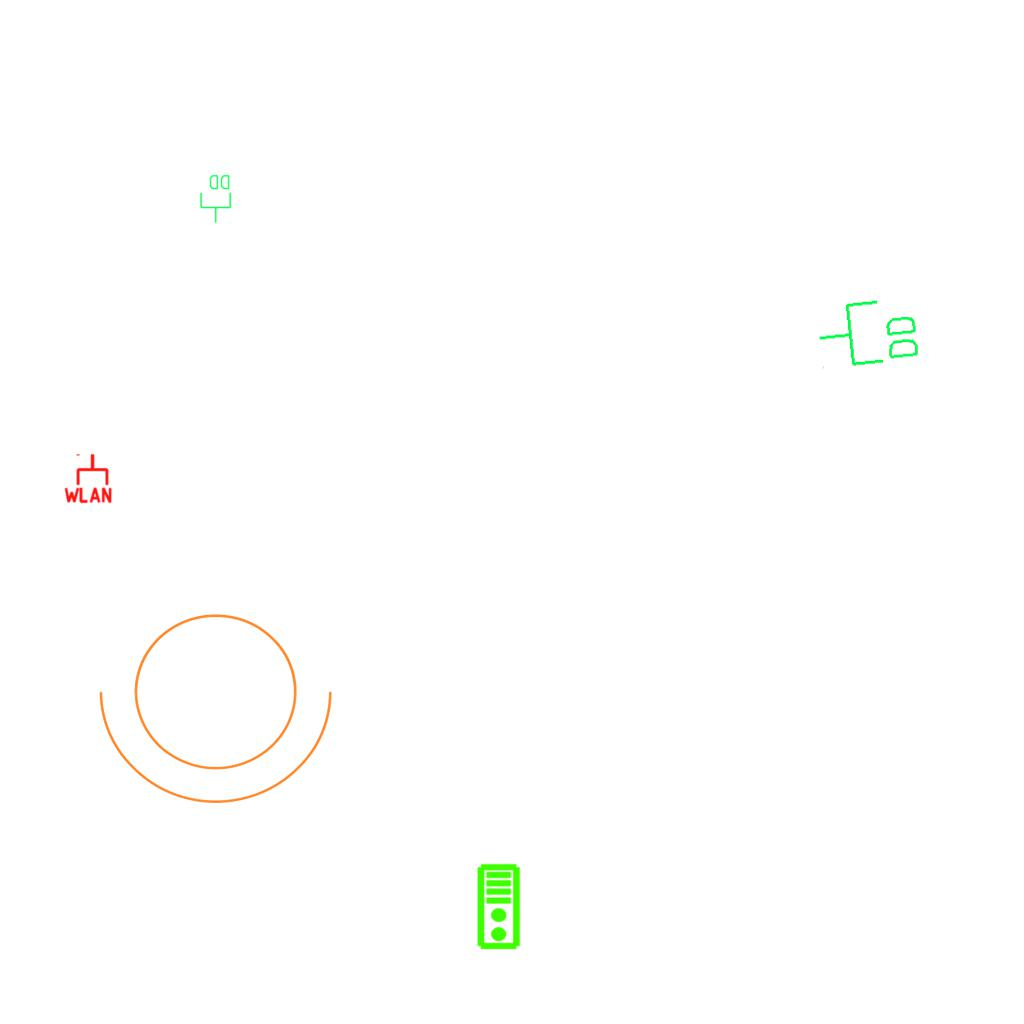Datenanschluss_zweifach: (813, 293, 924, 374), (199, 173, 233, 224)
Gegensprechanlage_mit_Video: (476, 863, 523, 951)
Scheinwerfer_fuer_Alarmbeleuchtung: (90, 589, 354, 814)
WLAN: (62, 452, 114, 504)
